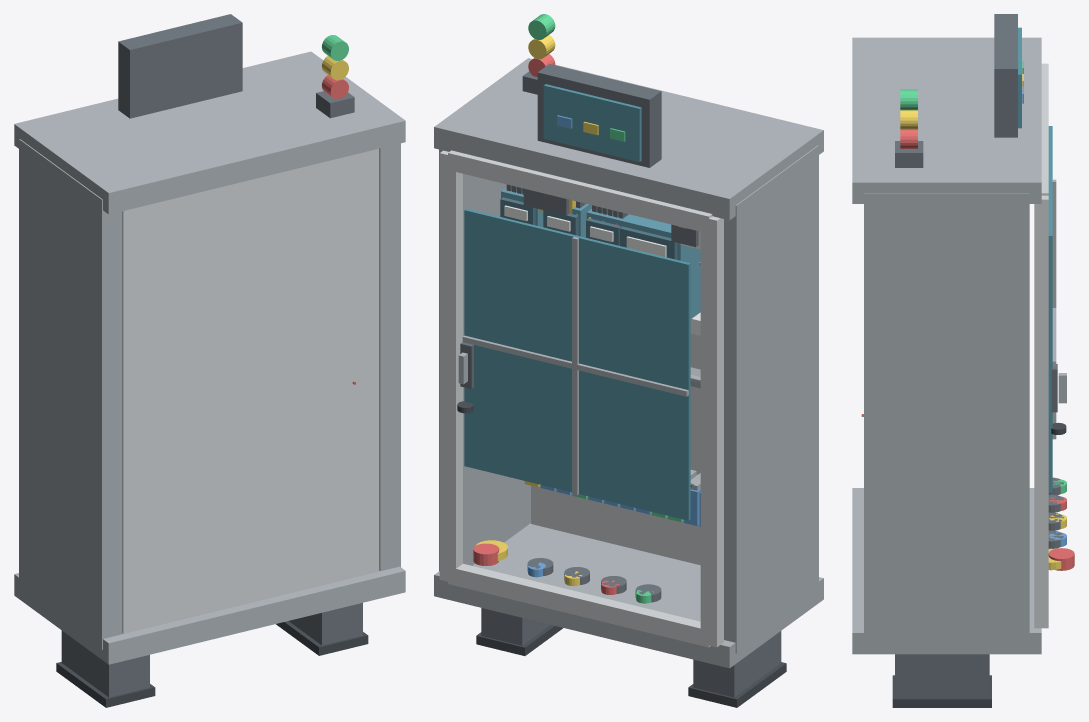
The model's file is painel_automacao_clp_realista.glb.
The picture shows the model from 3 angles, left to right: view 1: azimuth 30°, elevation 25°; view 2: azimuth 150°, elevation 25°; view 3: azimuth 270°, elevation 25°; orthographic projection.
Visible parts, largest first — view 1: Panel_Backplate, Panel_LeftSide, Panel_Top, HMI_Bezel, Panel_Bottom, Panel_RightSide, Foot_-0.52, Foot_0.52, Foot_Pad_-0.52, Foot_Pad_0.52, TowerLight_Base; view 2: Panel_Window_Glass, Panel_LeftSide, Panel_Top, Panel_Bottom, Panel_Door_Left, Panel_Door_Right, Panel_Backplate, Panel_RightSide, Panel_Door_Bottom, Panel_Door_Top, HMI_Screen, HMI_Bezel (+9 smaller); view 3: Panel_RightSide, Panel_Top, Panel_Door_Right, Panel_Bottom, Foot_0.52, HMI_Bezel, Panel_Window_Glass, Foot_Pad_0.52, Panel_Door_Top, Window_Mullion_V, TowerLight_Base, Emergency_Stop (+2 smaller).
Part boxes in pixels (bbox=[...]): Panel_Backplate: bbox=[122, 148, 379, 633]; Panel_LeftSide: bbox=[19, 139, 122, 649]; Panel_Top: bbox=[14, 51, 405, 214]; HMI_Bezel: bbox=[118, 14, 242, 118]; Panel_Bottom: bbox=[14, 566, 405, 664]; Panel_RightSide: bbox=[379, 143, 400, 571]; Foot_-0.52: bbox=[61, 630, 149, 697]; Foot_0.52: bbox=[289, 603, 362, 645]; Foot_Pad_-0.52: bbox=[56, 662, 155, 707]; Foot_Pad_0.52: bbox=[276, 621, 368, 655]; TowerLight_Base: bbox=[316, 91, 354, 118]; Panel_Window_Glass: bbox=[464, 208, 690, 520]; Panel_LeftSide: bbox=[724, 145, 818, 653]; Panel_Top: bbox=[434, 58, 823, 220]; Panel_Bottom: bbox=[434, 523, 823, 668]; Panel_Door_Left: bbox=[700, 216, 723, 647]; Panel_Door_Right: bbox=[439, 150, 462, 581]; Panel_Backplate: bbox=[531, 333, 700, 565]; Panel_RightSide: bbox=[439, 149, 530, 570]; Panel_Door_Bottom: bbox=[448, 563, 710, 647]; Panel_Door_Top: bbox=[448, 150, 712, 231]; HMI_Screen: bbox=[543, 84, 641, 161]; HMI_Bezel: bbox=[537, 64, 661, 167]; Panel_RightSide: bbox=[864, 193, 1029, 643]; Panel_Top: bbox=[852, 37, 1041, 203]; Panel_Door_Right: bbox=[1034, 195, 1048, 628]; Panel_Bottom: bbox=[852, 488, 1041, 654]; Foot_0.52: bbox=[895, 654, 989, 697]; HMI_Bezel: bbox=[994, 14, 1017, 137]; Panel_Window_Glass: bbox=[1048, 126, 1052, 492]; Foot_Pad_0.52: bbox=[892, 675, 991, 707]; Panel_Door_Top: bbox=[1041, 65, 1048, 195]; Window_Mullion_V: bbox=[1051, 179, 1056, 439]; TowerLight_Base: bbox=[895, 141, 923, 167]; Emergency_Stop: bbox=[1048, 548, 1074, 570].
Bounding box in the file's own units: 1.46 × 2.82 × 0.94.
